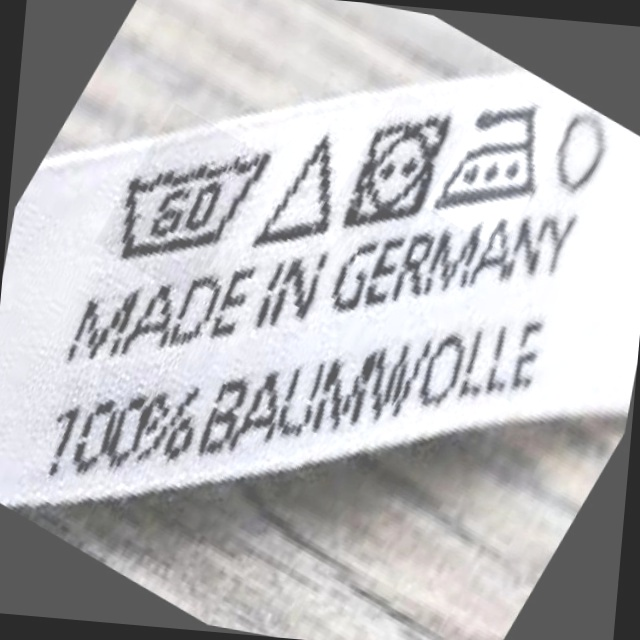60C: (99, 119, 276, 278)
bleach: (257, 121, 351, 261)
iron_high: (436, 85, 557, 229)
tumble_dry_medium: (343, 95, 453, 239)
